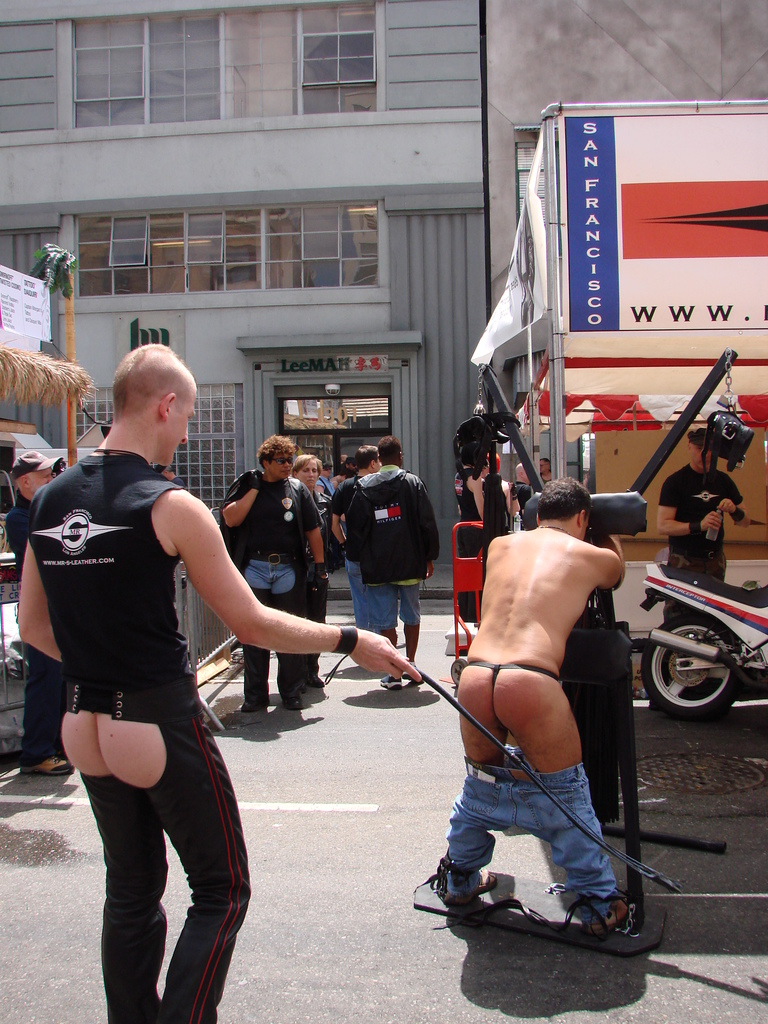face: (160, 379, 197, 461)
